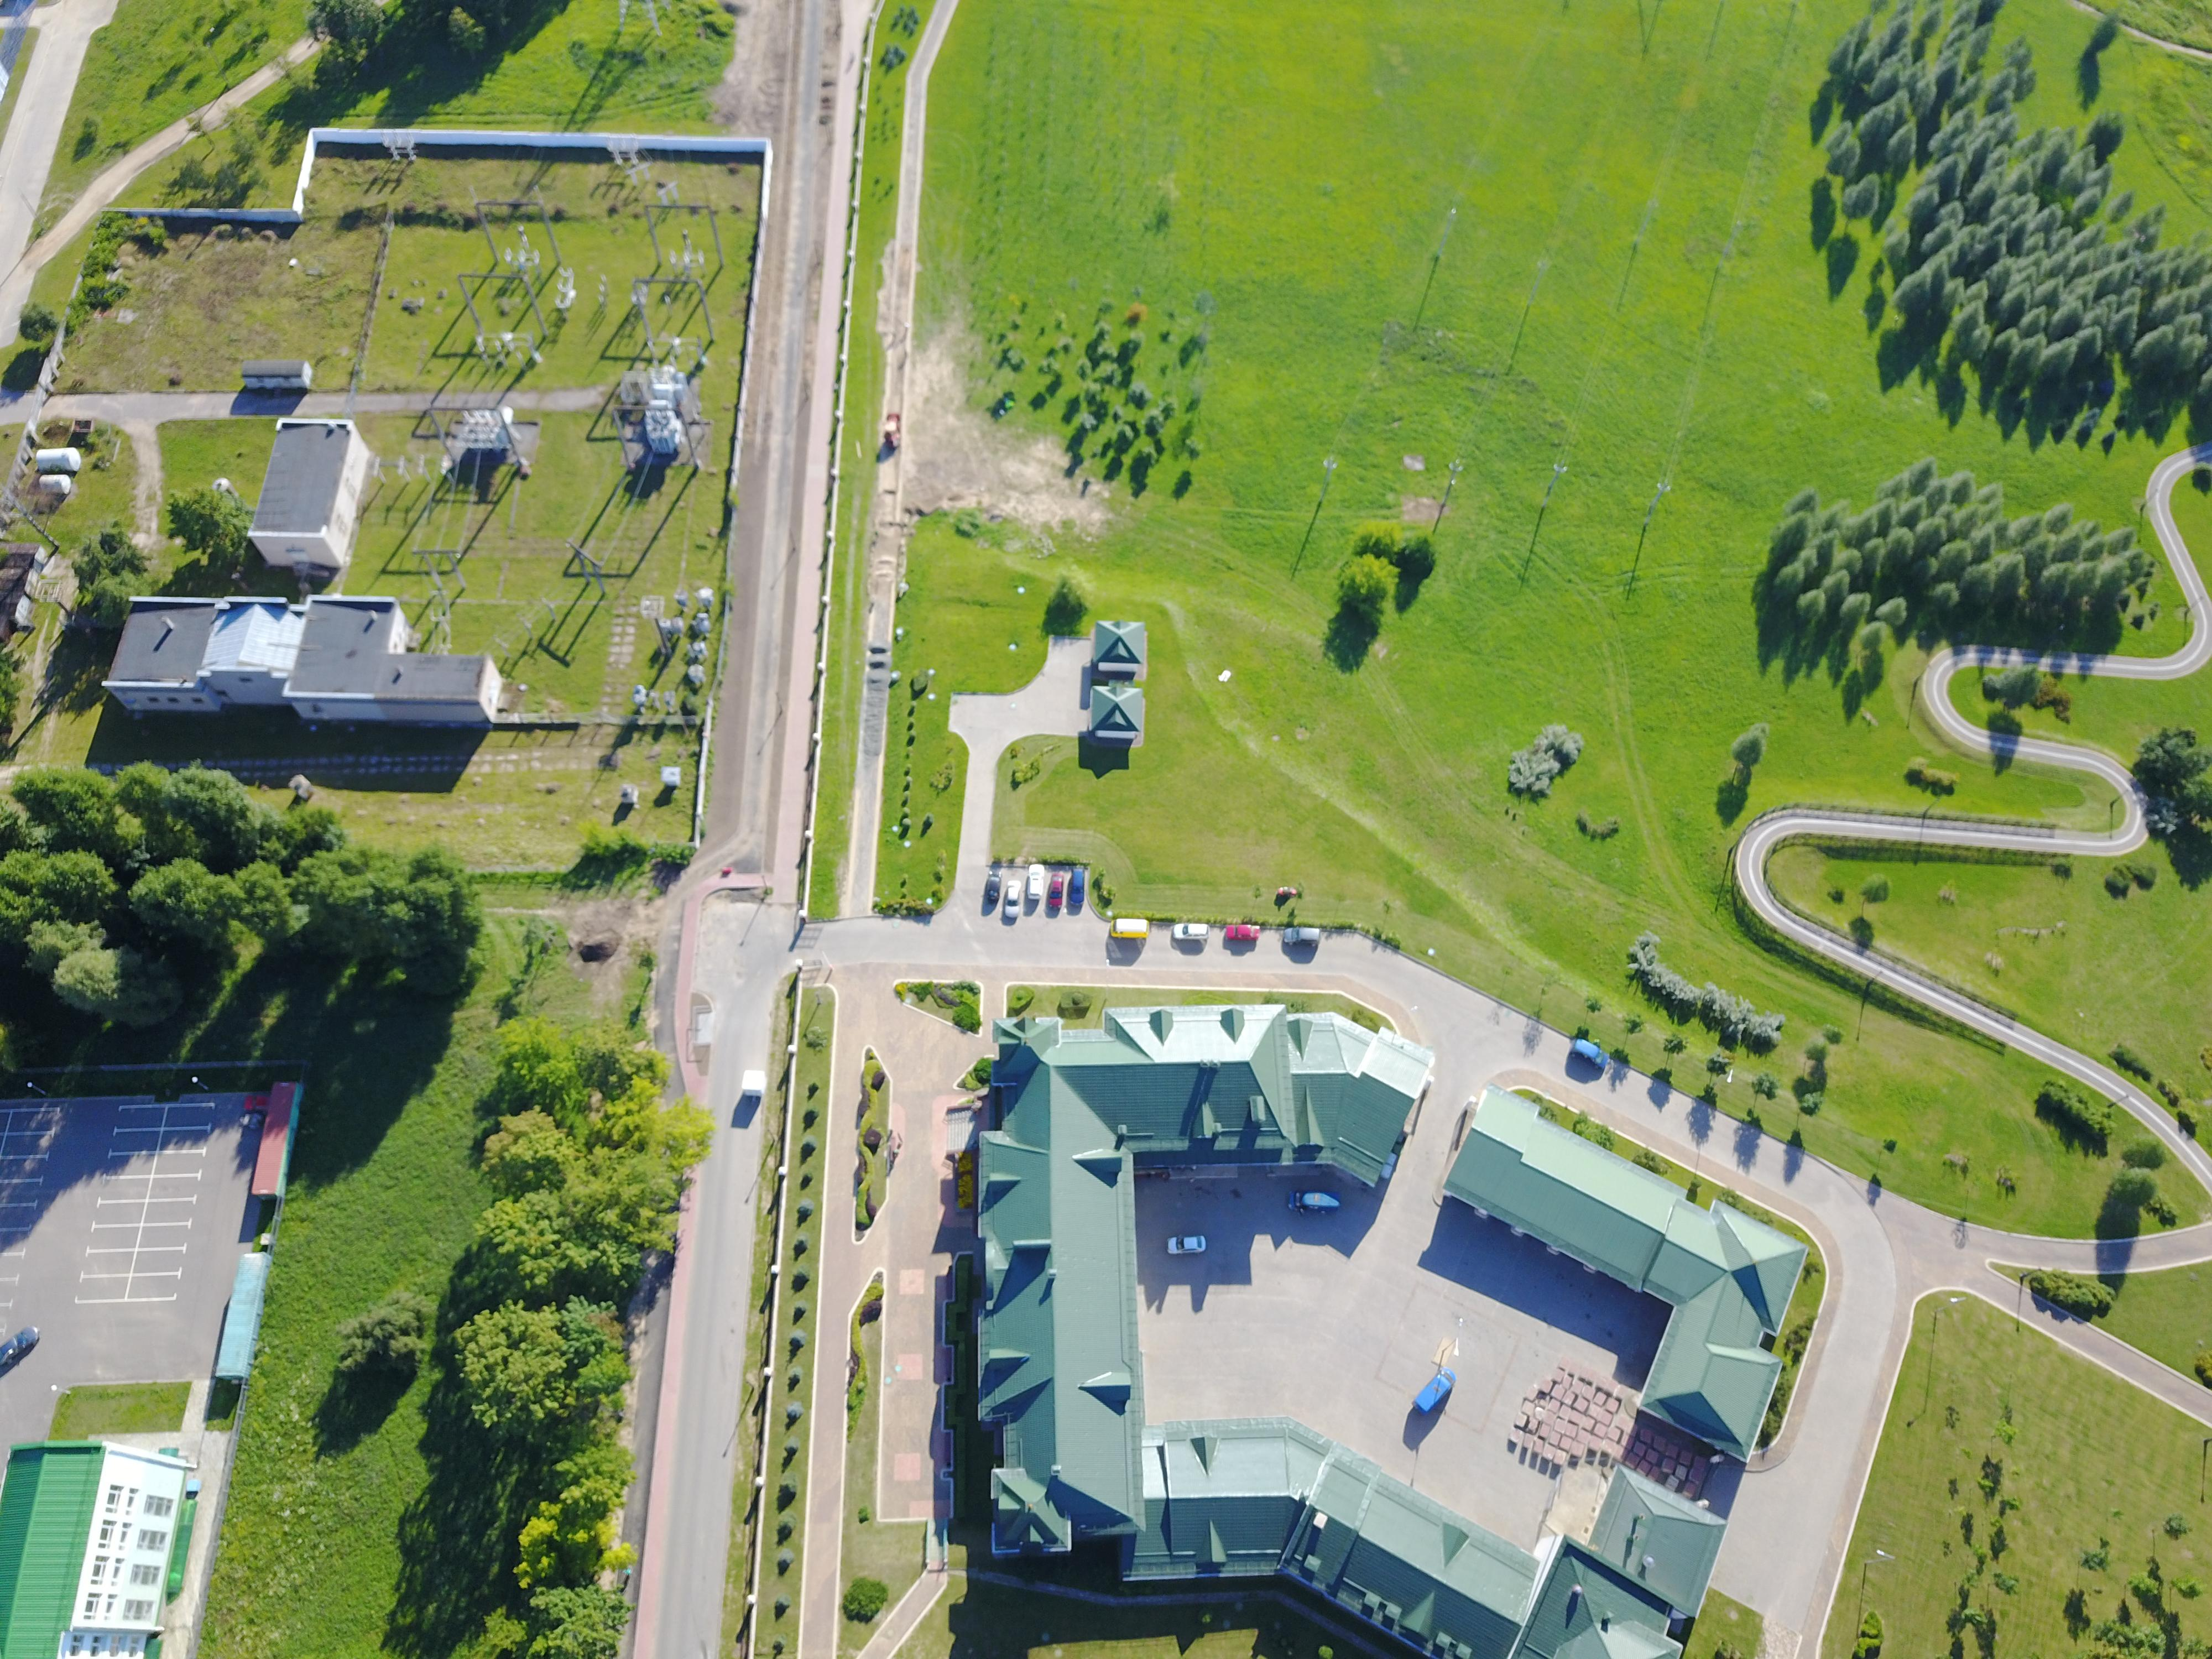car: (1569, 1037, 1609, 1070), (1167, 1234, 1205, 1255), (1170, 922, 1211, 941), (1026, 863, 1045, 899), (1284, 927, 1320, 946), (1003, 878, 1021, 918), (1069, 864, 1087, 904), (1049, 870, 1064, 910), (1223, 924, 1261, 939), (984, 870, 1001, 903)
